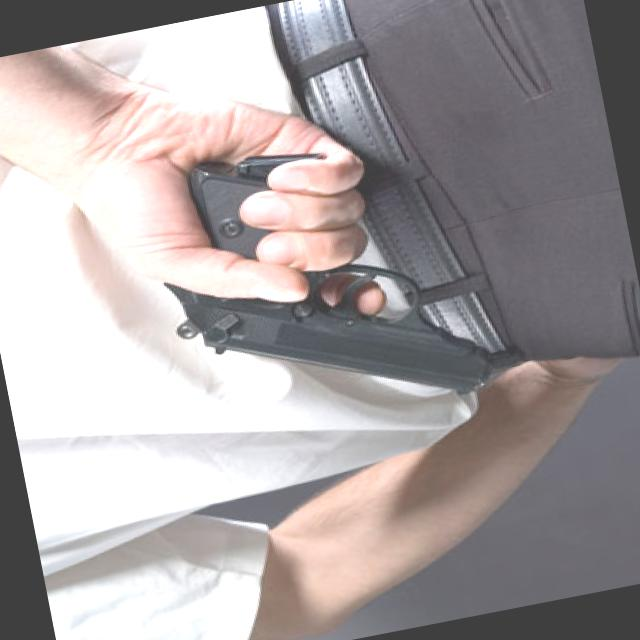handgun: (132, 110, 504, 454)
